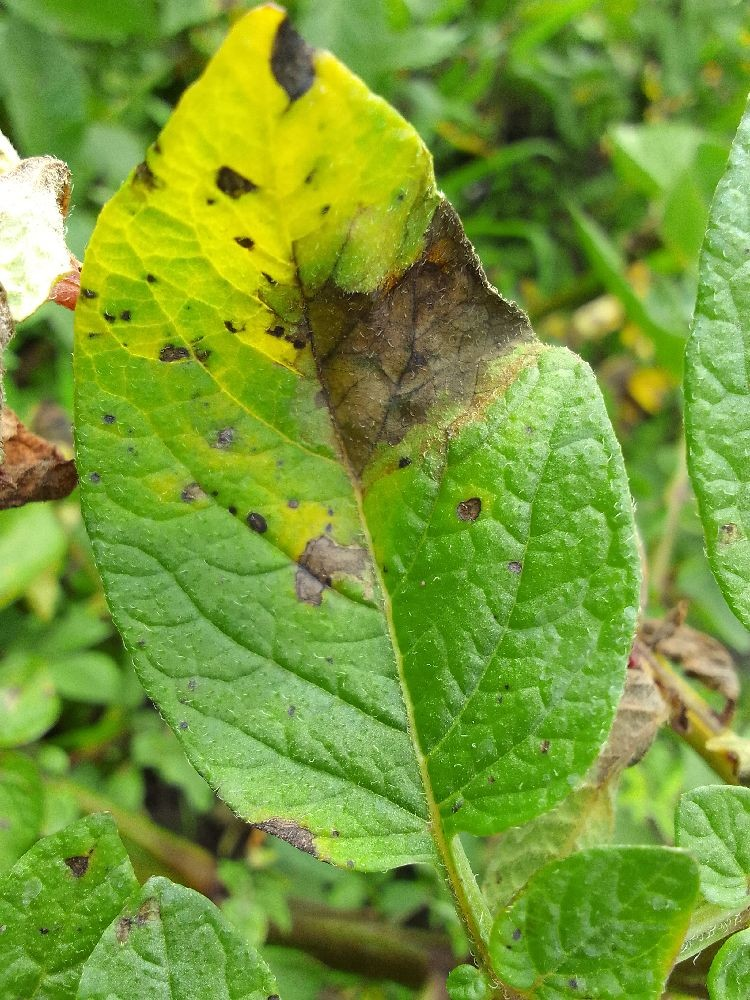late_blight: (198, 0, 685, 515), (569, 545, 750, 820), (240, 871, 516, 1000), (0, 382, 91, 524)
